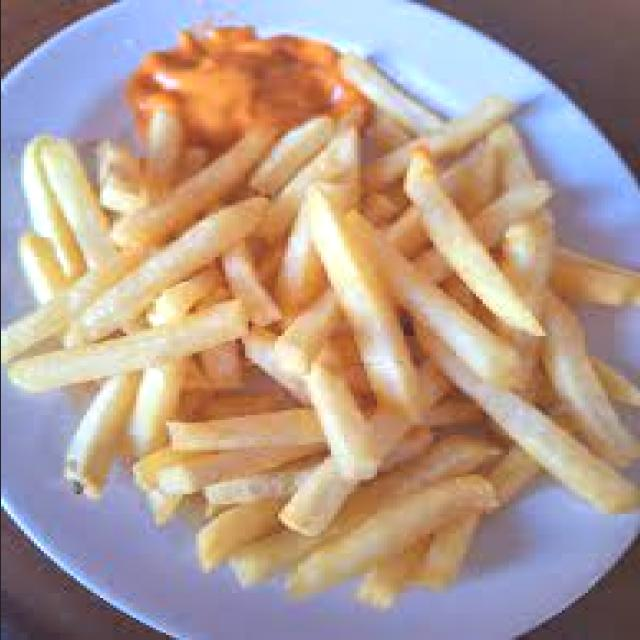kentang goreng: (13, 47, 640, 608)
